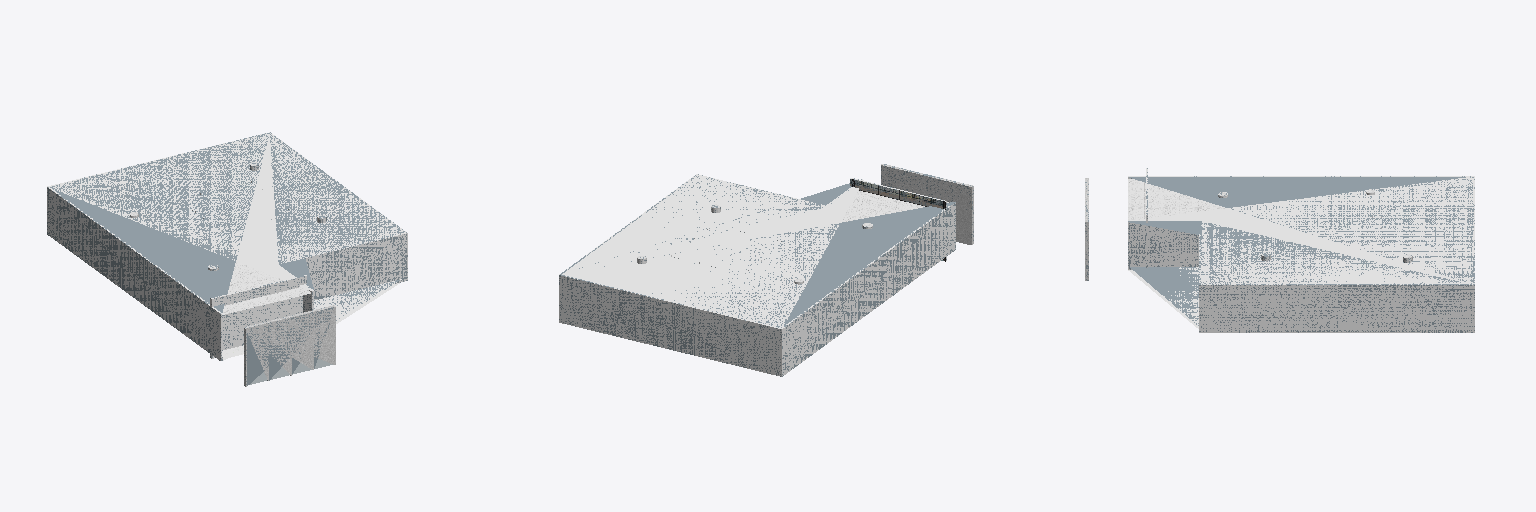
3 views of the same model, side by side, from view 1: azimuth 30°, elevation 25°; view 2: azimuth 150°, elevation 25°; view 3: azimuth 270°, elevation 25° (orthographic).
Visible parts, largest first — view 1: Mesh101 Group24 Model, Mesh318 Group48 Group47 Model, Mesh316 Group46 Model, Mesh187 Group38 Model; view 2: Mesh101 Group24 Model, Mesh318 Group48 Group47 Model, Mesh187 Group38 Model, Mesh316 Group46 Model; view 3: Mesh101 Group24 Model, Mesh187 Group38 Model.
Boxes of the visible parts, x1=… form: Mesh101 Group24 Model: x1=47, y1=132, x2=407, y2=360; Mesh318 Group48 Group47 Model: x1=244, y1=305, x2=335, y2=386; Mesh316 Group46 Model: x1=210, y1=275, x2=306, y2=358; Mesh187 Group38 Model: x1=222, y1=261, x2=310, y2=314; Mesh101 Group24 Model: x1=559, y1=174, x2=955, y2=376; Mesh318 Group48 Group47 Model: x1=881, y1=164, x2=973, y2=244; Mesh187 Group38 Model: x1=841, y1=190, x2=948, y2=222; Mesh316 Group46 Model: x1=850, y1=178, x2=946, y2=261; Mesh101 Group24 Model: x1=1128, y1=176, x2=1474, y2=332; Mesh187 Group38 Model: x1=1128, y1=179, x2=1224, y2=220.
Bounding box in the file's own units: 24.13 × 6.85 × 36.52.
25 materials, 10 textured.